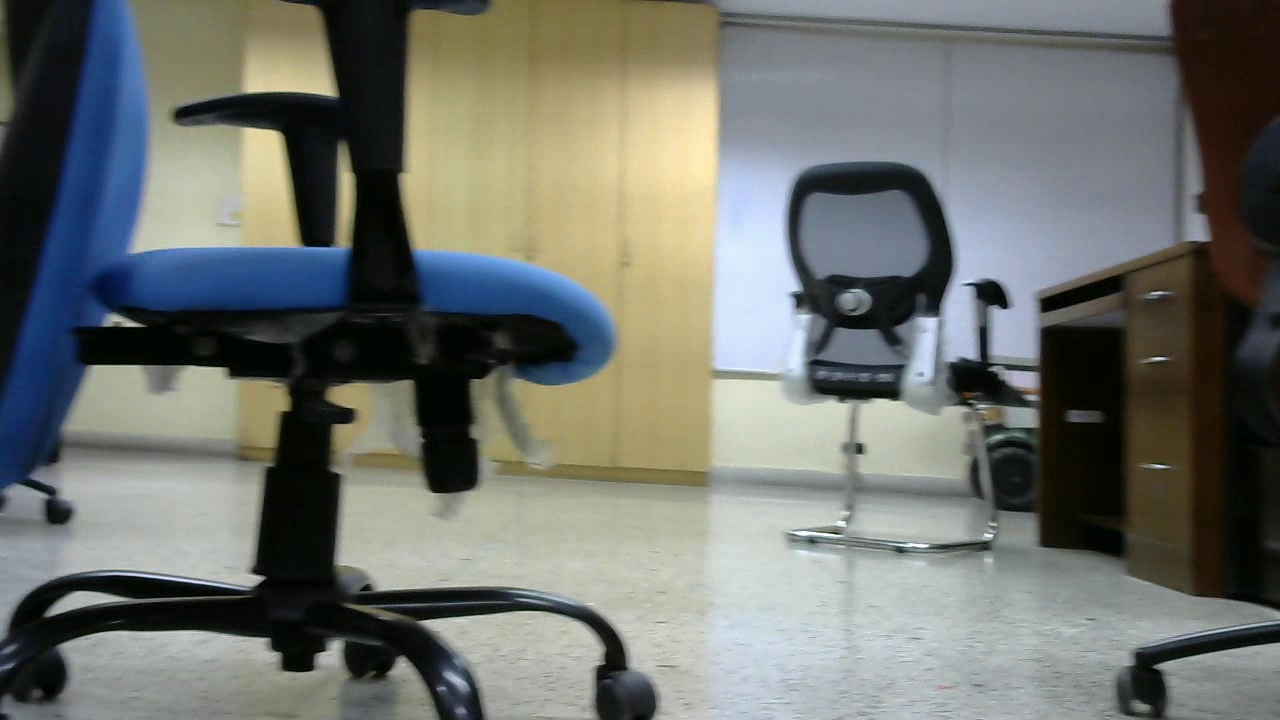chair: (110, 81, 682, 720), (765, 151, 1010, 552)
